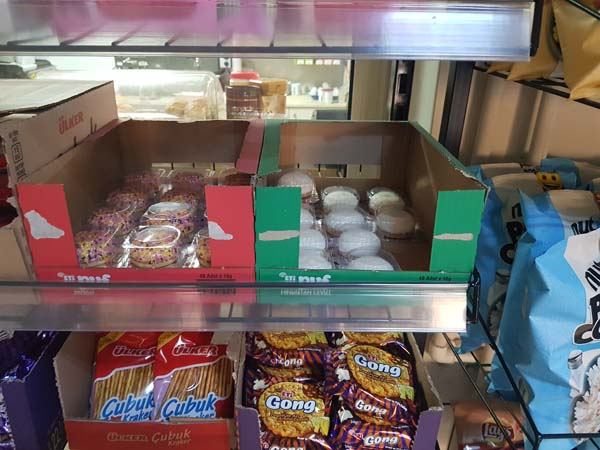eticubuk: (156, 332, 238, 423), (96, 337, 159, 422)
etigong: (326, 344, 421, 413), (259, 377, 336, 440)
etipuf: (279, 170, 324, 203), (334, 228, 387, 254), (337, 252, 400, 272), (374, 210, 419, 235), (367, 182, 407, 208), (321, 184, 362, 208), (295, 248, 335, 271), (293, 203, 321, 229)
popcorn: (525, 231, 600, 450)
